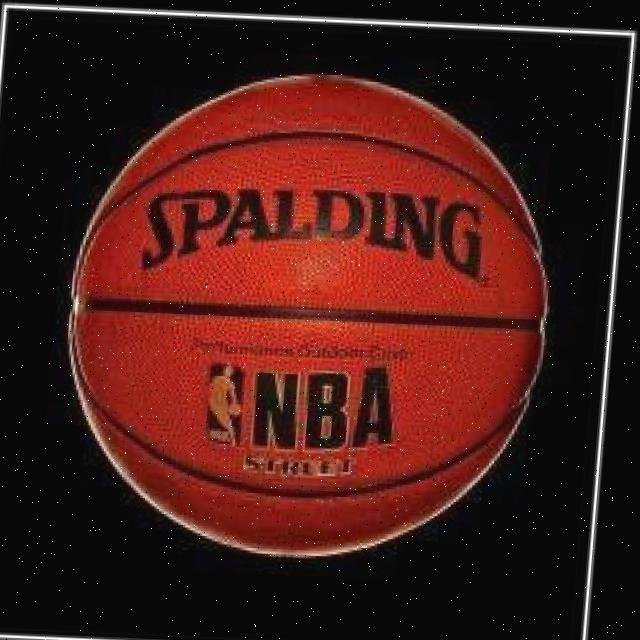Basketball: (48, 69, 566, 560)
